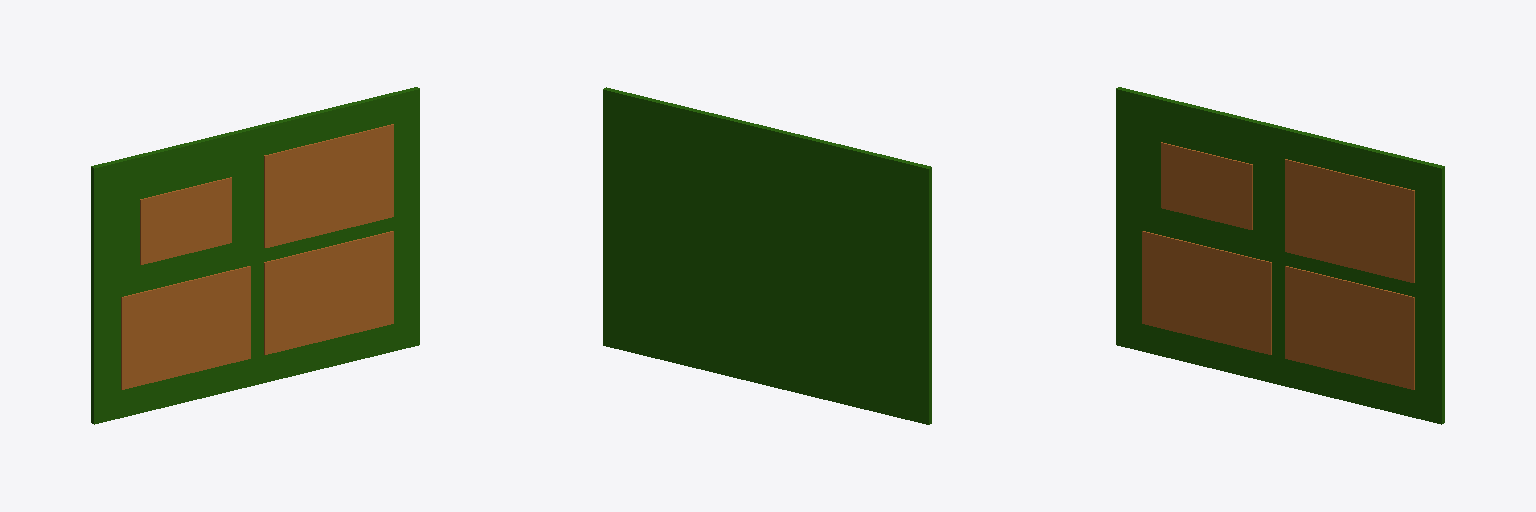
The model's file is TestPCBB.obj.
3 renders of one model, left to right at view 1: azimuth 30°, elevation 25°; view 2: azimuth 150°, elevation 25°; view 3: azimuth 330°, elevation 25°, orthographic.
Parts seen in each view (by area): view 1: Base, Pad 3, Part 4, Pad 2, Pad 1; view 2: Base; view 3: Base, Pad 2, Pad 3, Part 4, Pad 1.
Boxes of the visible parts, x1=… form: Base: x1=91, y1=87, x2=419, y2=424; Pad 3: x1=264, y1=231, x2=393, y2=354; Part 4: x1=264, y1=124, x2=393, y2=247; Pad 2: x1=121, y1=266, x2=250, y2=389; Pad 1: x1=140, y1=177, x2=231, y2=264; Base: x1=603, y1=87, x2=931, y2=424; Base: x1=1116, y1=87, x2=1444, y2=424; Pad 2: x1=1142, y1=231, x2=1271, y2=354; Pad 3: x1=1285, y1=266, x2=1414, y2=389; Part 4: x1=1285, y1=159, x2=1414, y2=282; Pad 1: x1=1161, y1=142, x2=1252, y2=229.
Size of the model in its own units: 305 by 229 by 6.35.